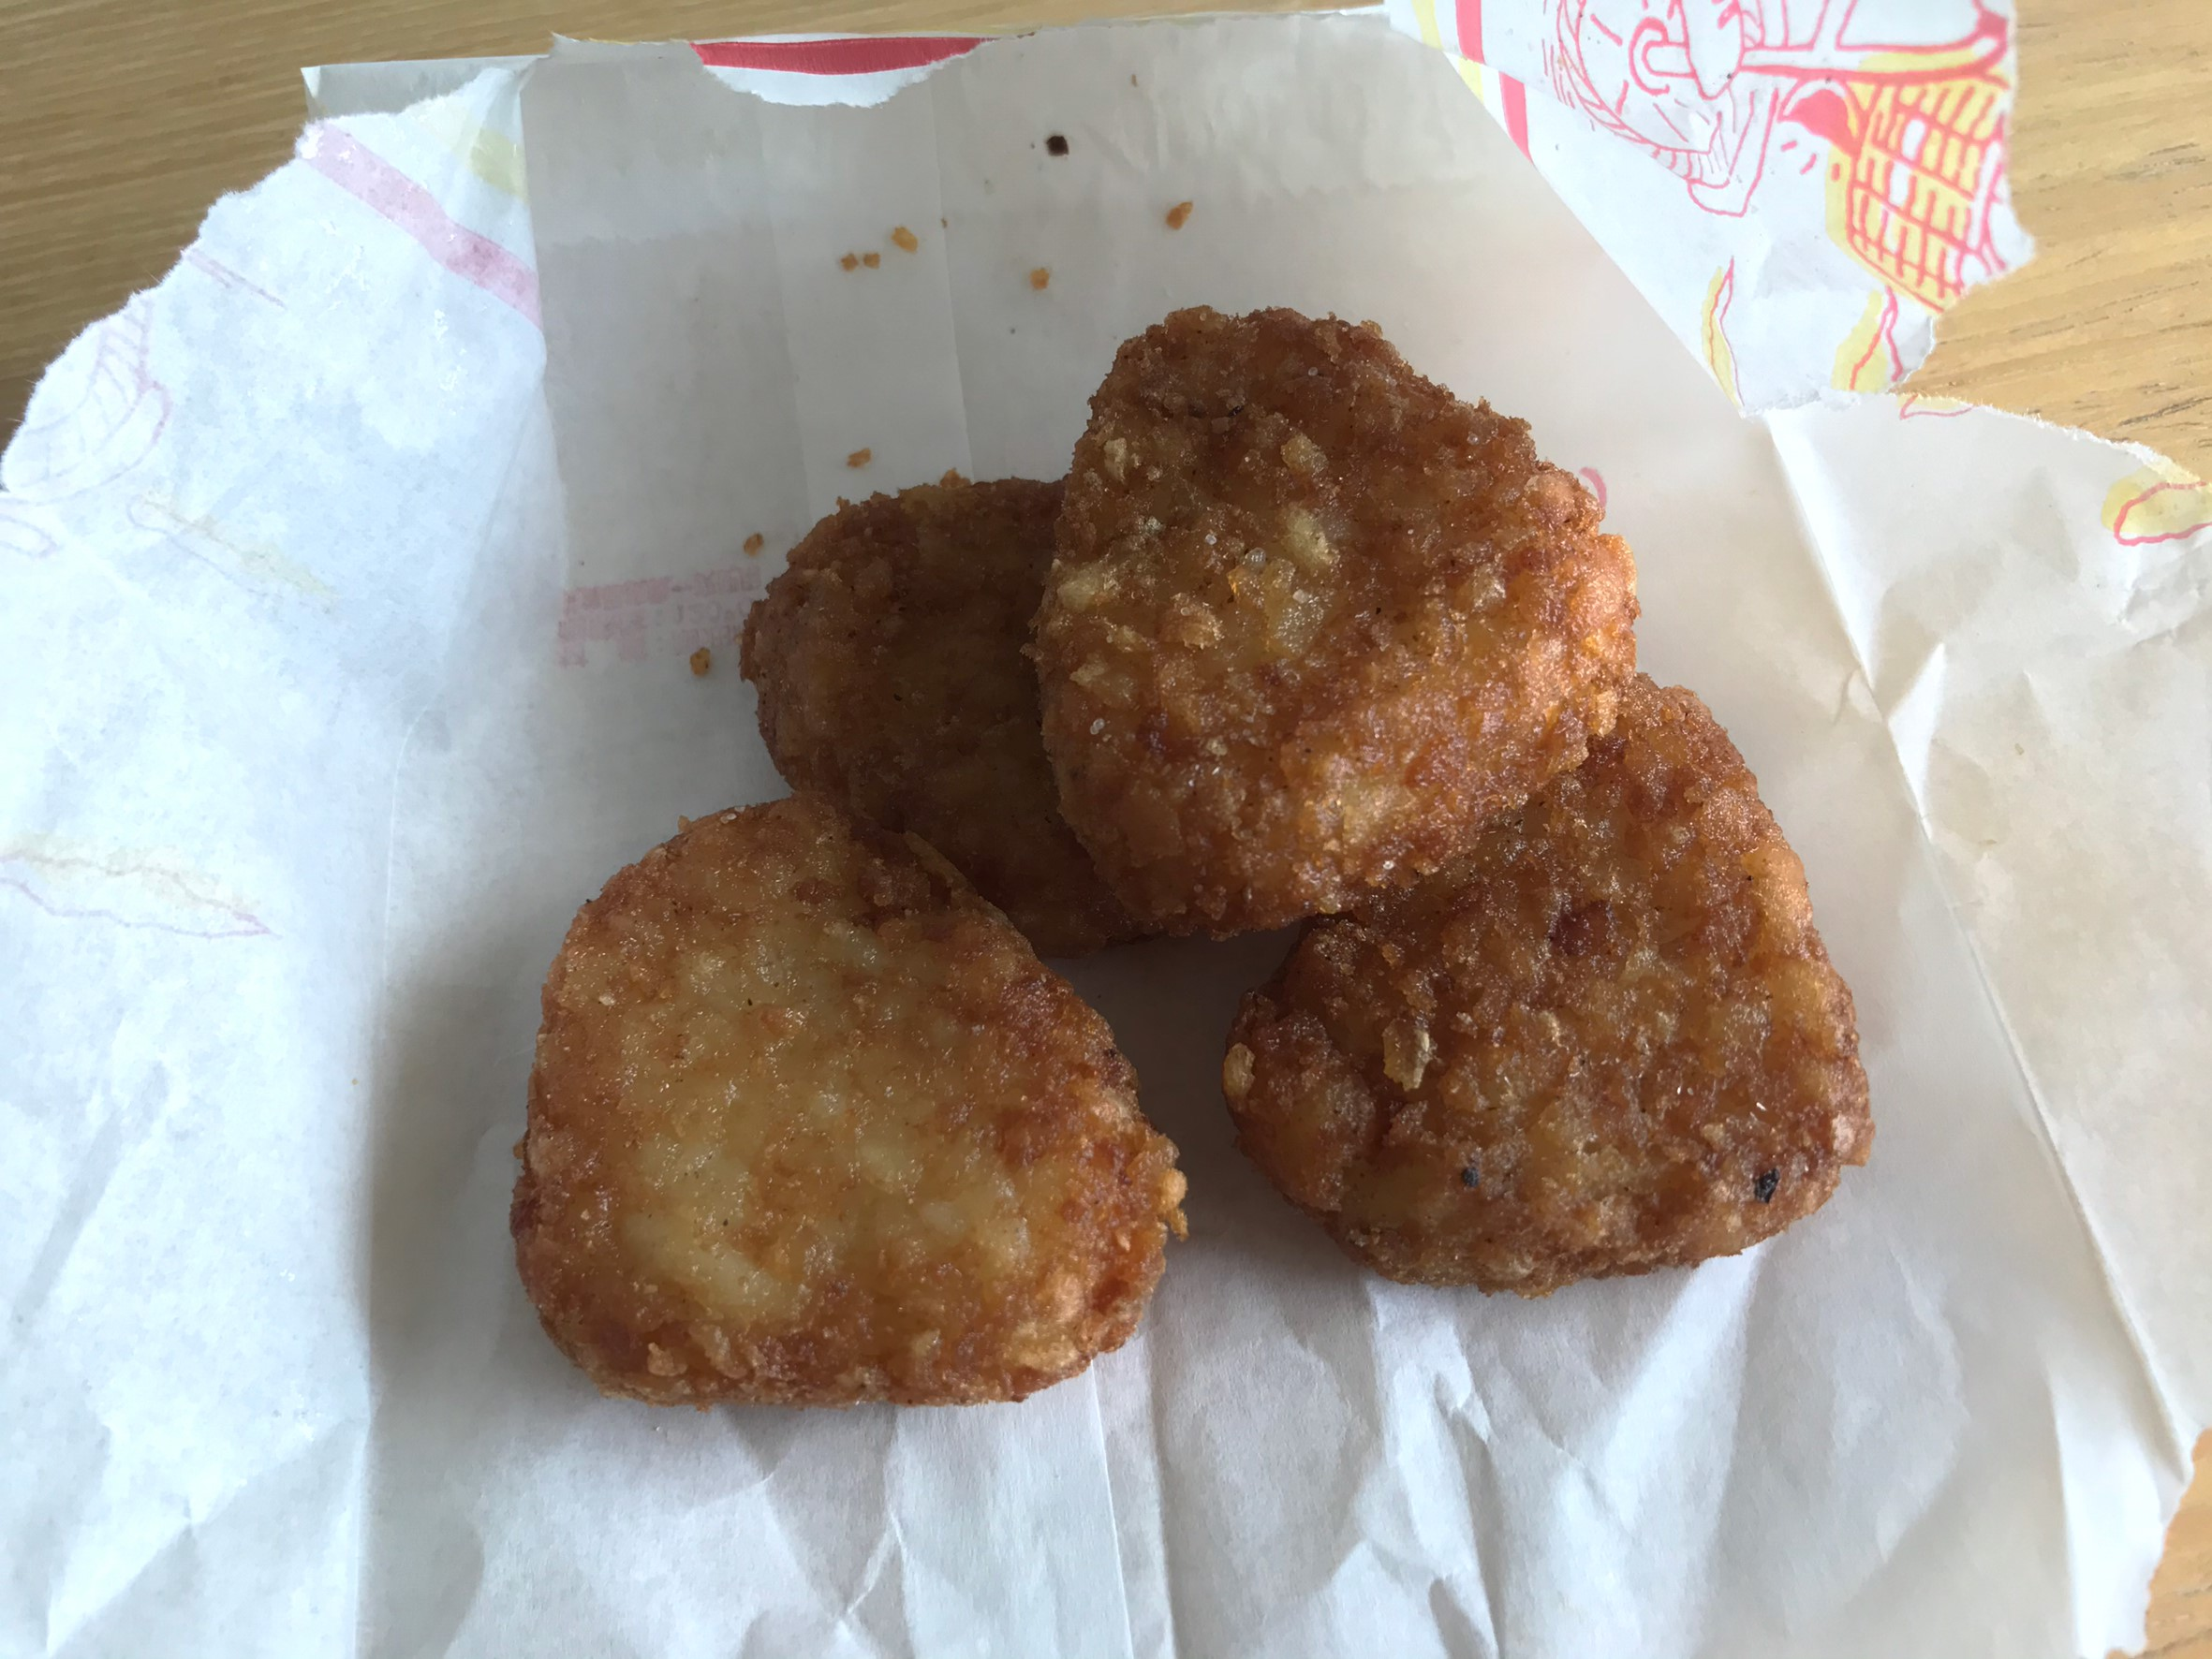triangle_hash_brown: (500, 300, 1876, 1417)
